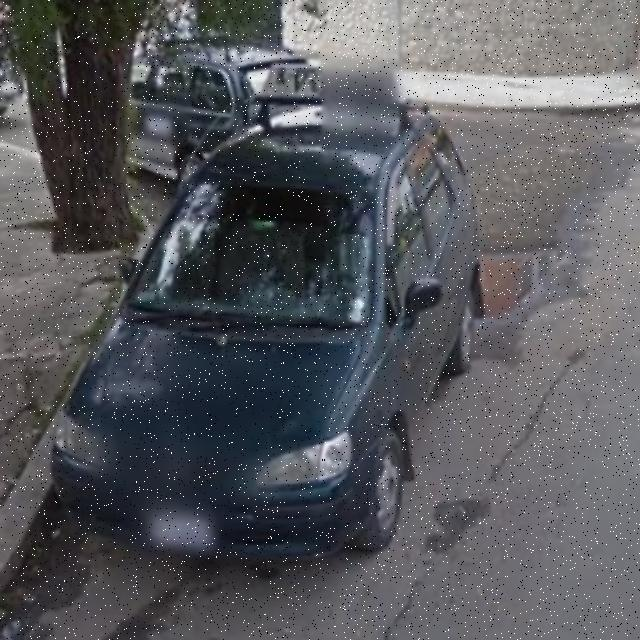cars: (68, 125, 476, 581)
